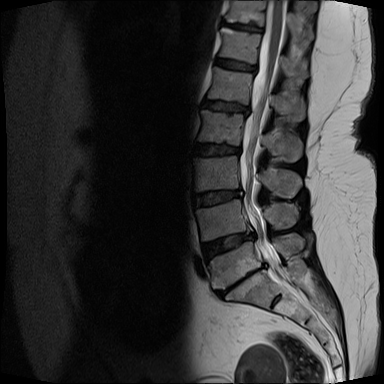Degenerative Disc Disease (DDD): (210, 256, 270, 304), (214, 15, 265, 37)
Lumbar Disc Bulge (LDB): (213, 254, 275, 301), (196, 223, 264, 261), (185, 185, 247, 214), (194, 96, 255, 122), (188, 136, 246, 162)
Spinal Stenosis (SS): (241, 219, 259, 250), (234, 99, 257, 123), (230, 176, 248, 206), (243, 54, 263, 79), (255, 250, 272, 277), (230, 139, 248, 159)
Thoracic Disc Bulge (TDB): (208, 50, 260, 77)
